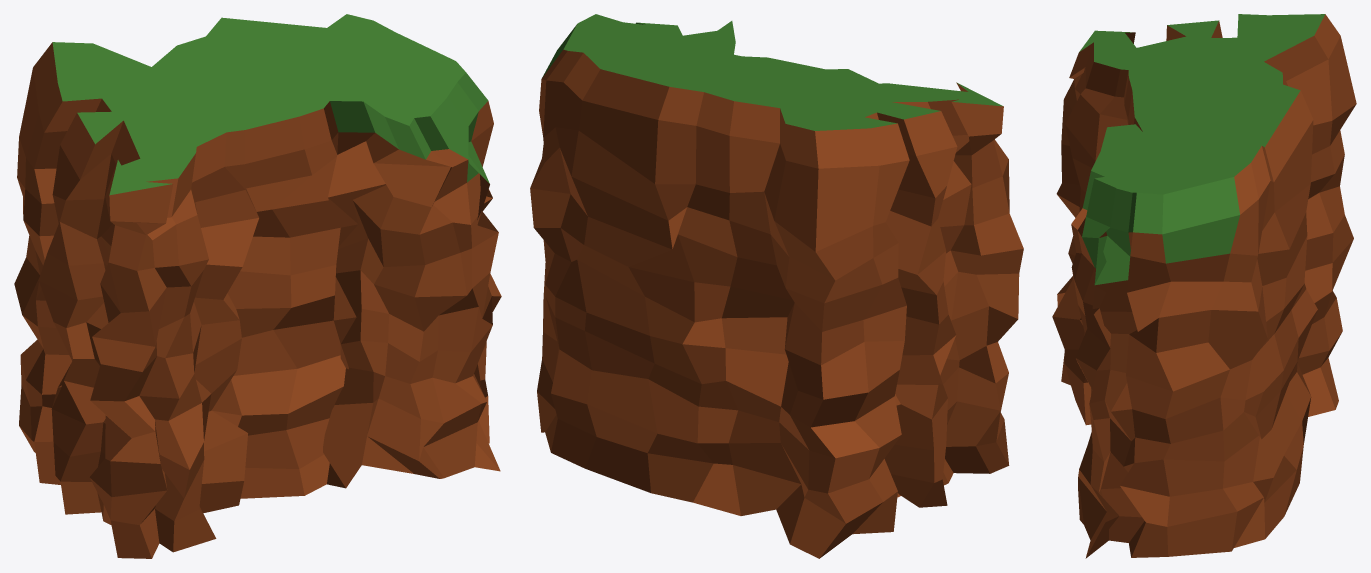
File: Mountan_Two.fbx
The picture shows the model from 3 angles, left to right: view 1: azimuth 30°, elevation 25°; view 2: azimuth 150°, elevation 25°; view 3: azimuth 270°, elevation 25°; orthographic projection. The views are drawn at different scales.
Visible parts, largest first — view 1: Plane; view 2: Plane; view 3: Plane.
Boxes of the visible parts, x1,y1,x2,y2 form: Plane: (14,14,501,558); Plane: (530,14,1023,558); Plane: (1052,14,1356,558).
Bounding box in the file's own units: 898 × 822 × 573.
